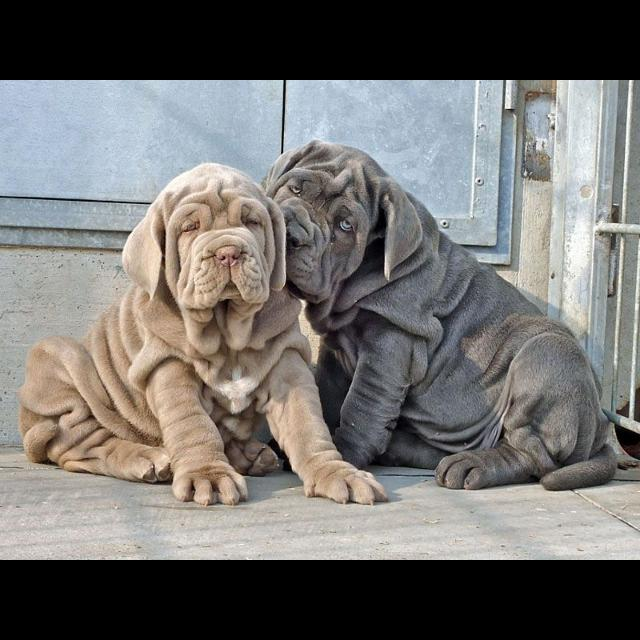mastino_napoletano: (262, 139, 638, 493), (18, 162, 390, 508)
